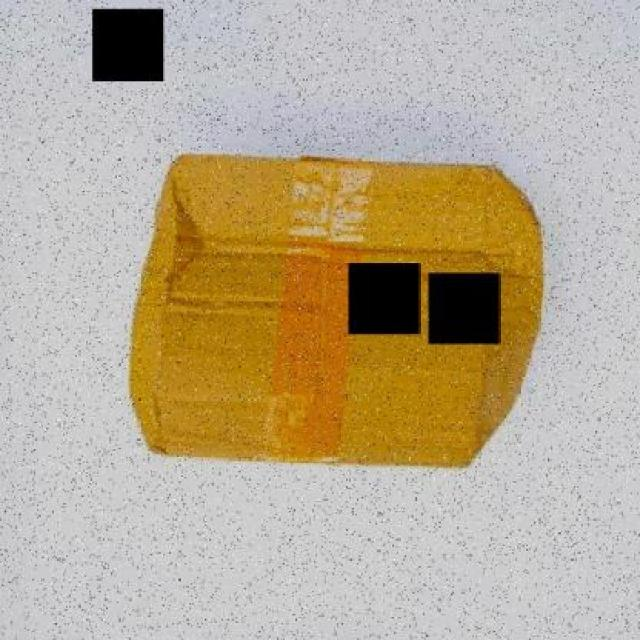box: (128, 152, 552, 466)
